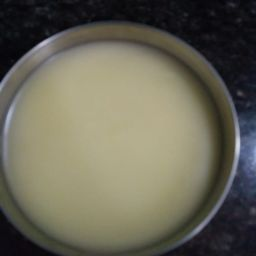Clarified Butter(ghee): (49, 65, 193, 239), (72, 50, 175, 249), (9, 101, 222, 189)
